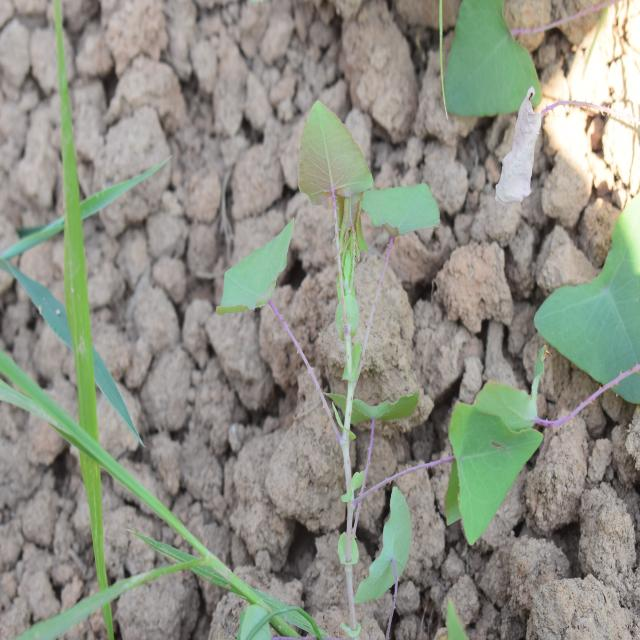Asiatic_Smartweed: (208, 119, 436, 323), (530, 208, 640, 417), (436, 342, 561, 510)
